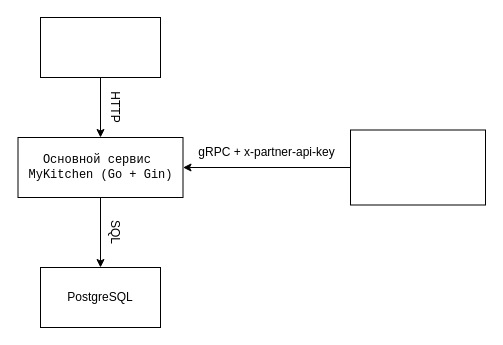
Some shapes in this 503 by 345 pixel diagram are drawn without their labels. The shapes that lost their labels are listed below. From the top down, each one's box as (x1, y1, x2, y2) in pixels, then its label:
(40, 16, 160, 78): Пользователь
(350, 129, 486, 205): Заведение-партнер Restaurant Demo Service (Go)
